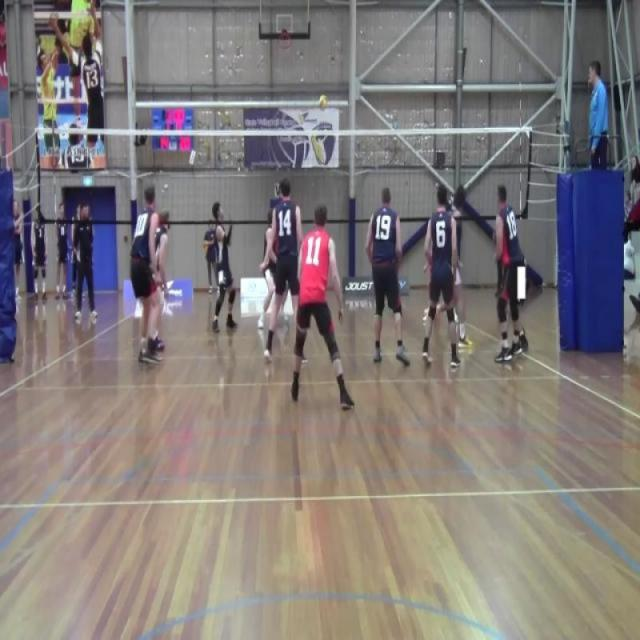volleyball: (318, 92, 329, 111)
